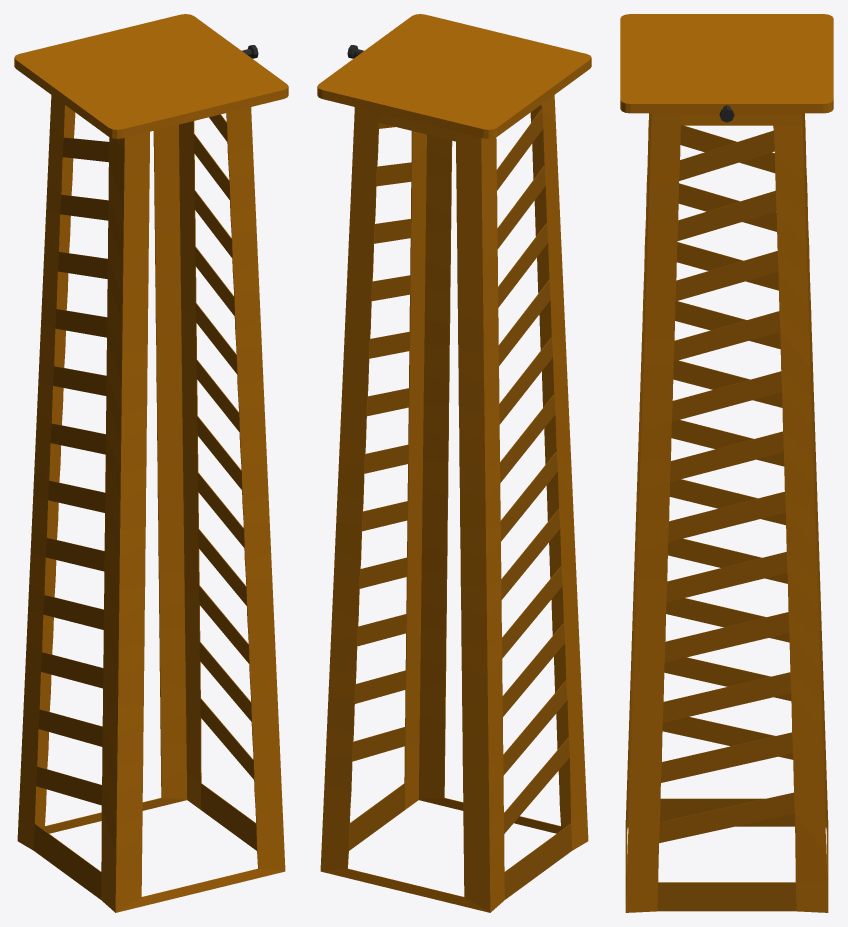
Rendered from holder.fbx.
3 renders of one model, left to right at view 1: azimuth 30°, elevation 25°; view 2: azimuth 150°, elevation 25°; view 3: azimuth 270°, elevation 25°, orthographic. The views are drawn at different scales.
Parts seen in each view (by area): view 1: Cube.001, Cube.002; view 2: Cube.001, Cube.002; view 3: Cube.001, Cube.002.
Boxes of the visible parts, bbox=[...] form: Cube.001: bbox=[17, 95, 285, 912]; Cube.002: bbox=[14, 14, 288, 138]; Cube.001: bbox=[320, 95, 588, 912]; Cube.002: bbox=[317, 14, 591, 138]; Cube.001: bbox=[625, 113, 828, 912]; Cube.002: bbox=[620, 14, 833, 113].
Size of the model in its own units: 259 by 1011 by 240.
